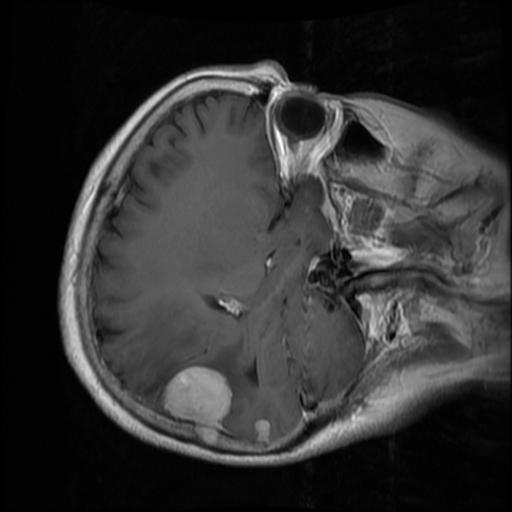meningioma: (162, 366, 230, 424)
